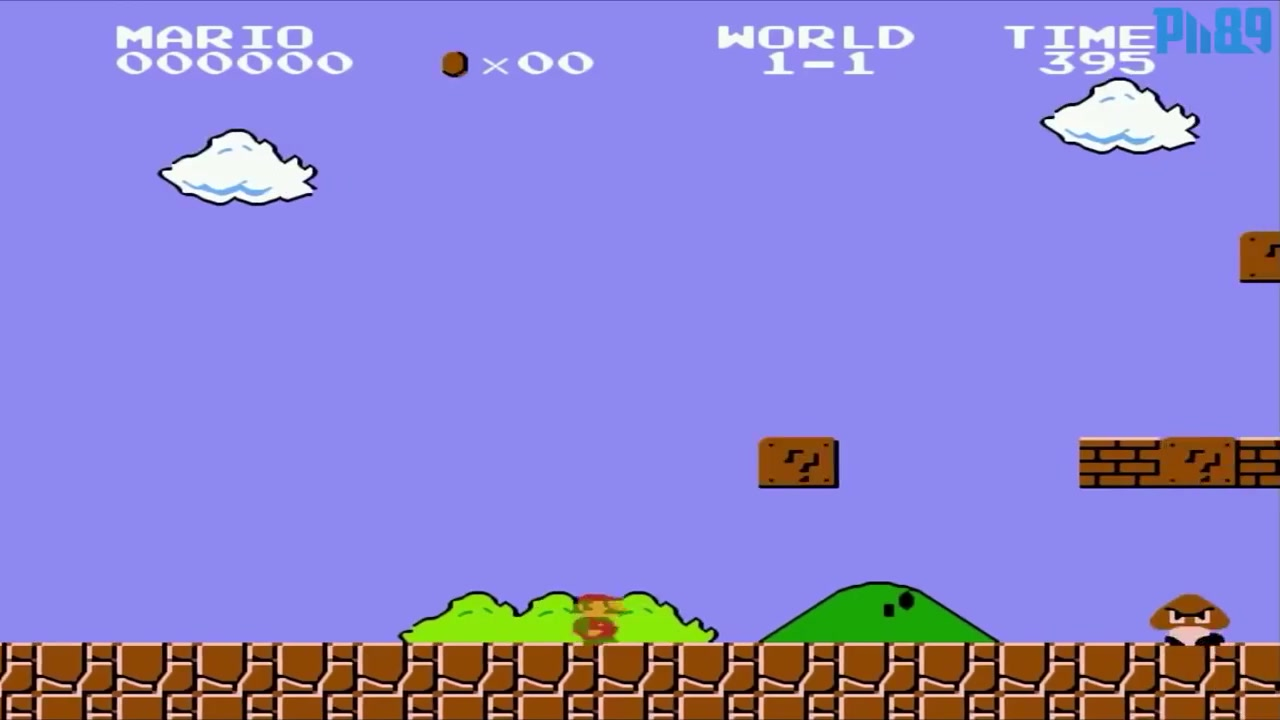mario: (556, 586, 629, 646)
